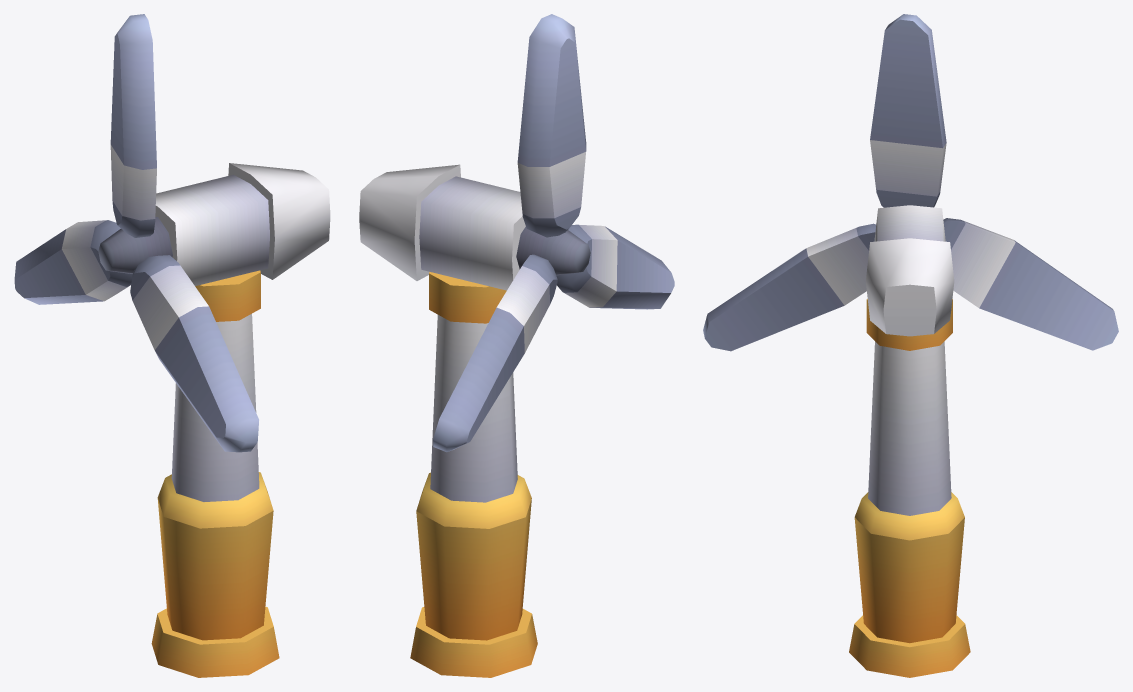
The model's file is windmill-low.glb.
The picture shows the model from 3 angles, left to right: view 1: azimuth 30°, elevation 25°; view 2: azimuth 150°, elevation 25°; view 3: azimuth 270°, elevation 25°; orthographic projection. The views are drawn at different scales.
Visible parts, largest first — view 1: windmill-low, blades; view 2: windmill-low, blades; view 3: windmill-low, blades.
Boxes of the visible parts, <box> form: windmill-low: <box>98,163,330,677</box>; blades: <box>14,14,258,452</box>; windmill-low: <box>359,164,590,677</box>; blades: <box>433,14,674,452</box>; windmill-low: <box>849,205,970,677</box>; blades: <box>703,14,1118,351</box>.
Size of the model in its own units: 0.6047 by 1.79 by 1.13.
Materials: 1 (1 with a texture image).
